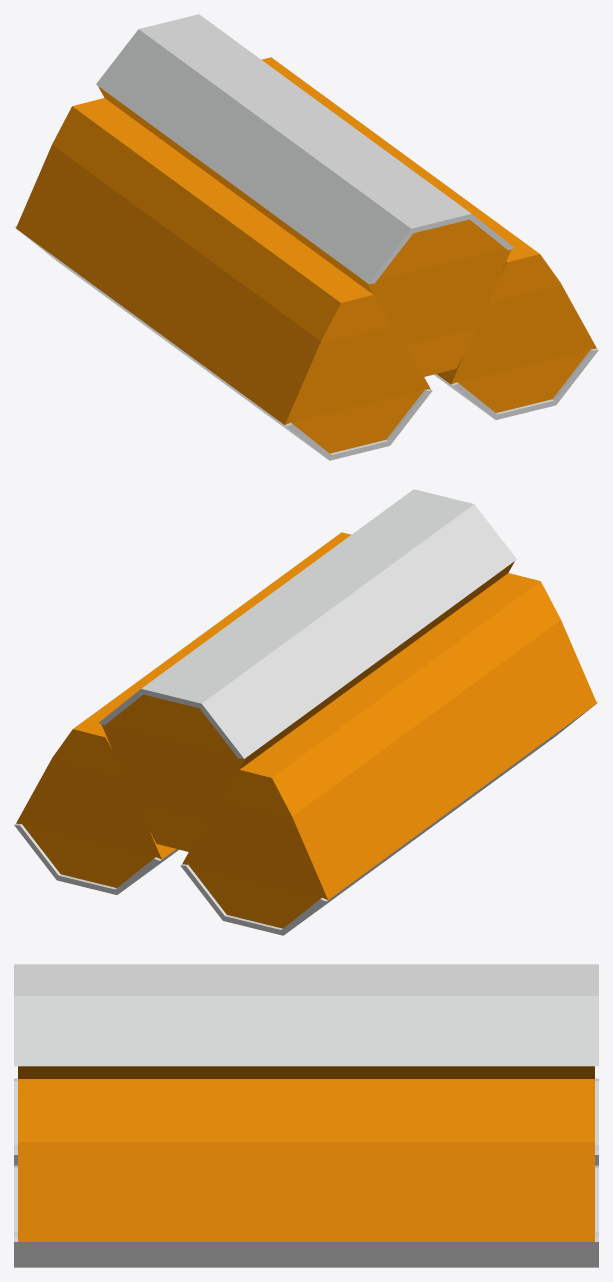
The model's file is Small Log_14.fbx.
The picture shows the model from 3 angles, top to bottom: view 1: azimuth 30°, elevation 25°; view 2: azimuth 150°, elevation 25°; view 3: azimuth 270°, elevation 25°; orthographic projection. The views are drawn at different scales.
Visible parts, largest first — view 1: Circle.293; view 2: Circle.293; view 3: Circle.293.
Boxes of the visible parts, box(x1,y1,x2,y2) form: Circle.293: box(14, 14, 598, 460); Circle.293: box(14, 489, 598, 935); Circle.293: box(14, 964, 598, 1267).
Size of the model in its own units: 15.71 by 10.21 by 23.76.
